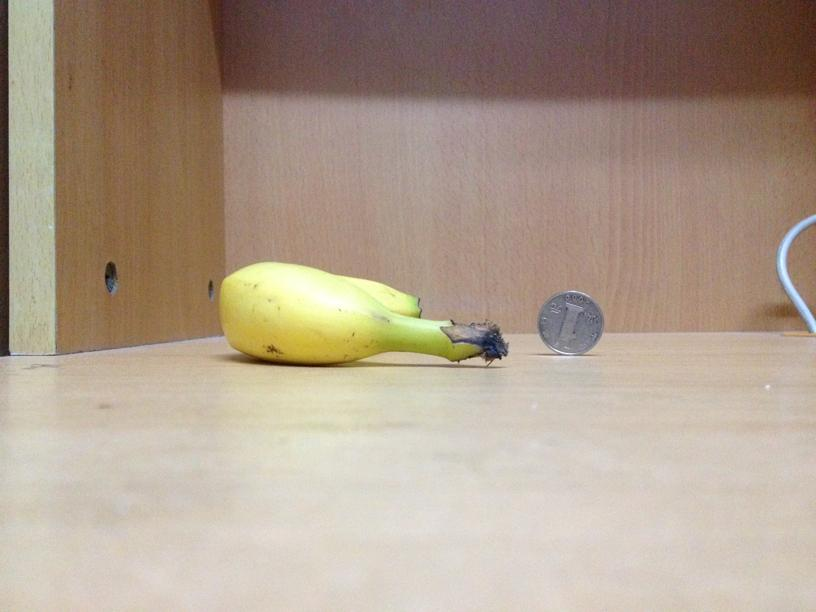banana: (217, 257, 481, 364)
coin: (537, 291, 604, 355)
